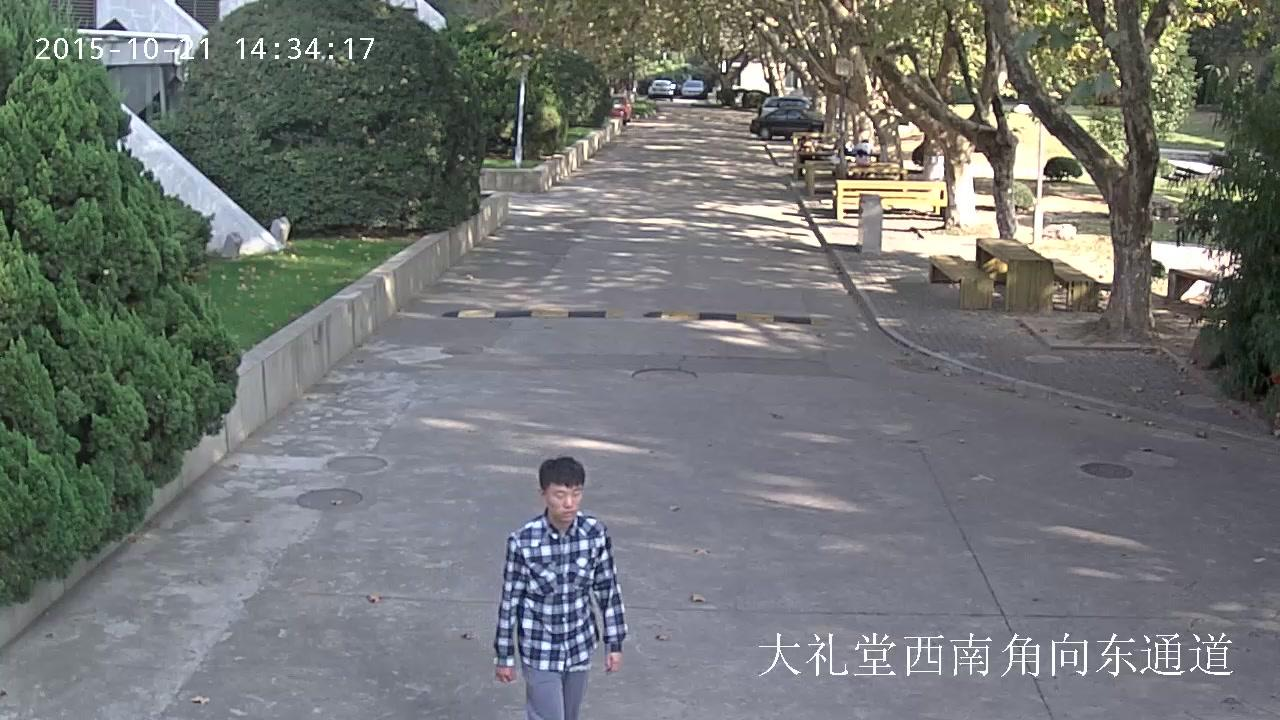person: (494, 456, 627, 720), (855, 137, 873, 166)
